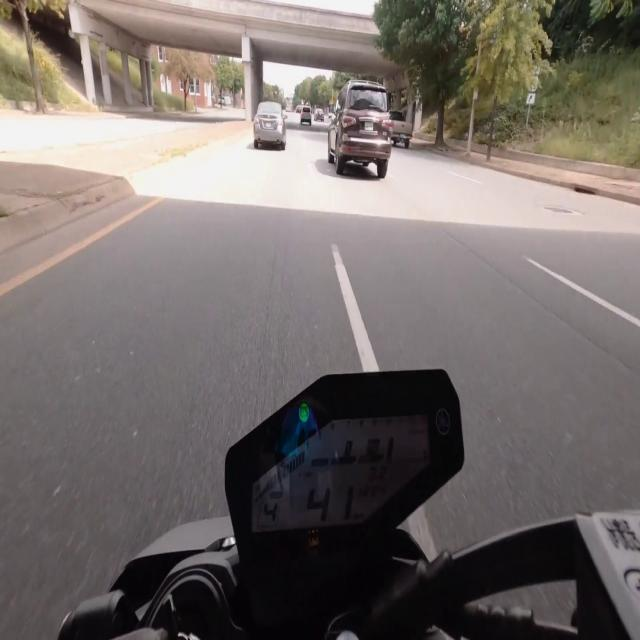car: (328, 80, 392, 178), (254, 102, 286, 149), (300, 106, 311, 125), (314, 109, 324, 122), (296, 105, 302, 113)
motorcycle: (59, 371, 639, 639)
